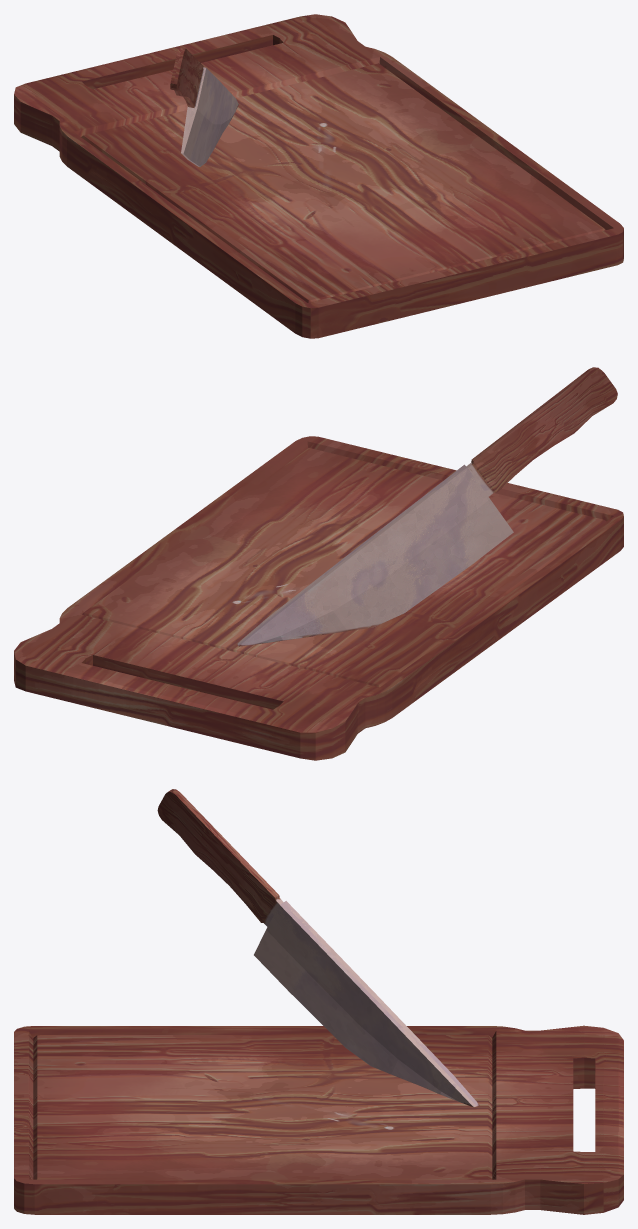
Rendered from Station_TablaDeMochis.fbx.
3 renders of one model, top to bottom at view 1: azimuth 30°, elevation 25°; view 2: azimuth 150°, elevation 25°; view 3: azimuth 270°, elevation 25°, orthographic.
Visible parts, largest first — view 1: m_TablaDeCortar; view 2: m_TablaDeCortar; view 3: m_TablaDeCortar.
Part boxes in pixels (x1,y1,x2,y2): m_TablaDeCortar: (14, 14, 623, 338); m_TablaDeCortar: (14, 367, 623, 760); m_TablaDeCortar: (14, 789, 623, 1214).
Size of the model in its own units: 137 by 83.38 by 188.
1 material, 1 textured.
